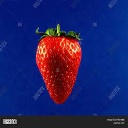strawberry: (32, 26, 83, 105)
